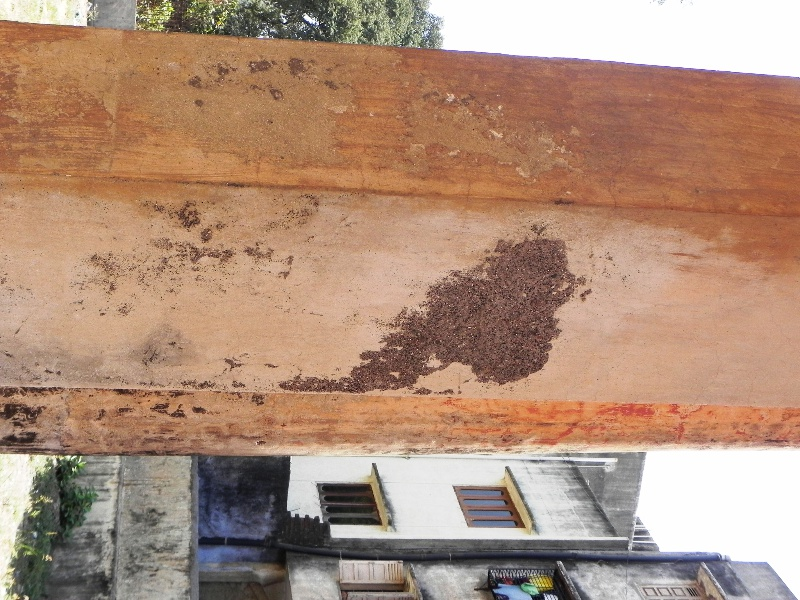Spalling: (288, 231, 599, 387)
